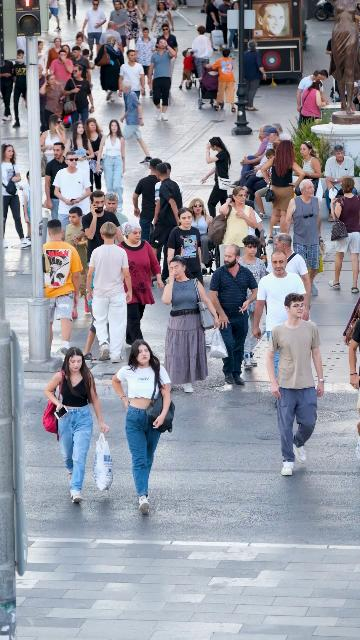person: (265, 293, 327, 477), (111, 341, 174, 516), (44, 347, 110, 503), (161, 255, 225, 393), (209, 244, 259, 385), (85, 222, 132, 363), (117, 222, 164, 345), (252, 250, 311, 342), (43, 219, 83, 352), (281, 179, 324, 296), (264, 140, 307, 248), (149, 162, 183, 284), (239, 235, 267, 370), (328, 176, 360, 294), (266, 233, 312, 307), (82, 191, 125, 266), (220, 186, 261, 263), (52, 151, 92, 226), (165, 208, 204, 284), (132, 158, 166, 245), (118, 81, 153, 165), (65, 207, 91, 318), (95, 119, 126, 212), (239, 127, 281, 195), (1, 144, 28, 247), (199, 136, 232, 218), (231, 124, 272, 187), (323, 145, 355, 225), (147, 39, 176, 121), (45, 142, 74, 220), (244, 149, 275, 219), (94, 35, 125, 102), (187, 198, 214, 274), (64, 122, 95, 185), (297, 69, 329, 126), (64, 65, 95, 123), (211, 47, 237, 113), (39, 74, 68, 133), (242, 41, 266, 111), (8, 49, 28, 128), (85, 118, 105, 191), (135, 27, 156, 96), (41, 114, 66, 168), (119, 49, 146, 98), (300, 141, 323, 196), (190, 26, 214, 78), (301, 80, 329, 124), (95, 20, 124, 62), (123, 0, 145, 55), (109, 0, 129, 53), (50, 50, 74, 91), (150, 1, 175, 40), (69, 46, 92, 87), (104, 192, 129, 225), (204, 0, 221, 48), (156, 23, 178, 57), (179, 49, 195, 91), (46, 38, 63, 71), (38, 64, 47, 126), (272, 122, 291, 141), (137, 0, 150, 25), (75, 32, 89, 54), (60, 44, 71, 59)
